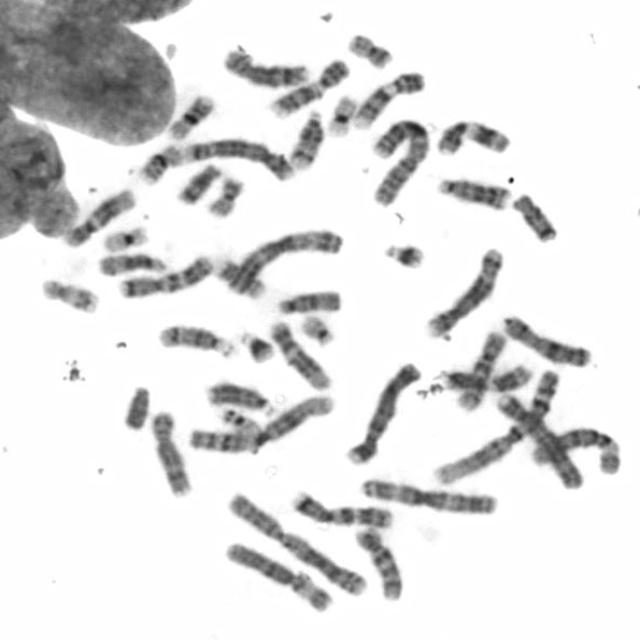A1: (429, 364, 564, 487), (183, 391, 337, 455)
A2: (217, 486, 371, 599), (365, 116, 431, 209)
A3: (223, 224, 345, 296), (356, 473, 499, 516)
B4: (490, 387, 585, 491), (341, 358, 423, 468)
B5: (422, 243, 507, 340), (183, 134, 300, 187)
C10: (451, 326, 508, 412), (350, 523, 404, 604)
C11: (431, 115, 512, 158), (439, 361, 533, 394)
C12: (266, 316, 334, 393), (59, 184, 137, 249)
C6: (220, 538, 336, 614), (527, 422, 623, 476)
C7: (114, 250, 214, 300), (286, 487, 395, 529)
C8: (146, 406, 195, 499), (219, 44, 312, 89)
C9: (264, 55, 352, 119), (350, 67, 427, 130)
D13: (201, 376, 277, 418), (432, 172, 511, 212)
D14: (155, 320, 238, 360), (284, 107, 325, 170)
D15: (274, 286, 346, 317), (95, 249, 170, 277)
E16: (162, 91, 218, 140), (142, 137, 194, 185)
E17: (206, 258, 272, 298), (38, 275, 100, 316)
E18: (508, 189, 558, 244), (170, 159, 223, 207)
F19: (98, 222, 150, 254), (324, 91, 359, 138)
F20: (204, 172, 248, 220), (345, 29, 395, 70)
G21: (379, 238, 429, 272), (234, 326, 276, 366)
G22: (220, 409, 267, 447), (297, 310, 337, 346)
X: (498, 311, 593, 369)
Y: (118, 381, 153, 432)
